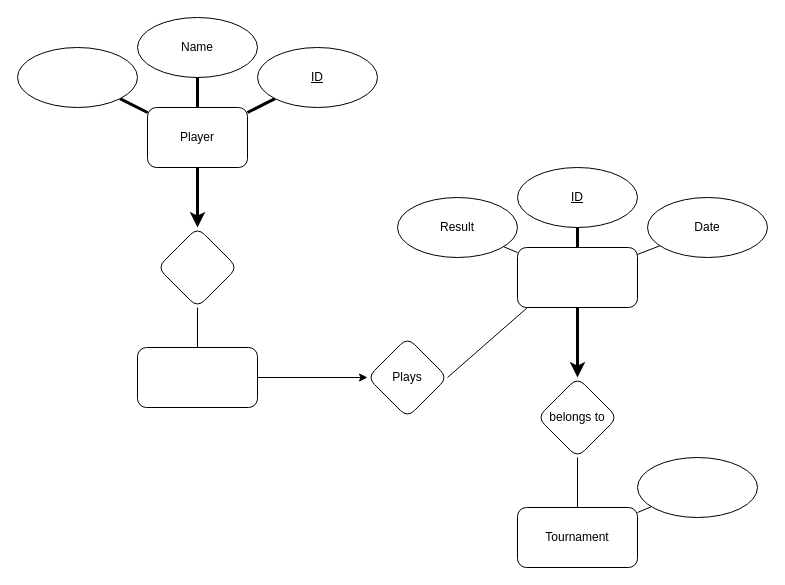
Some shapes in this 785 by 585 pixel diagram are drawn without their labels. The shapes that lost their labels are listed below. From the top down, each one's centre as x and y in pixels, then its label:
At (x=77, y=77): "Position".
At (x=197, y=267): "Plays for".
At (x=577, y=277): "Game".
At (x=197, y=377): "Team".
At (x=697, y=487): "Rounds".
